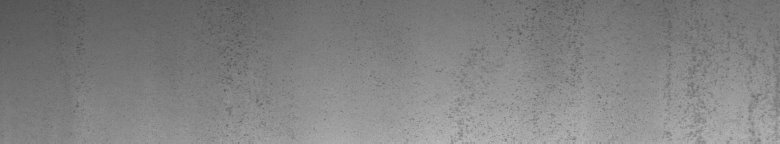ib: (436, 6, 608, 132)
